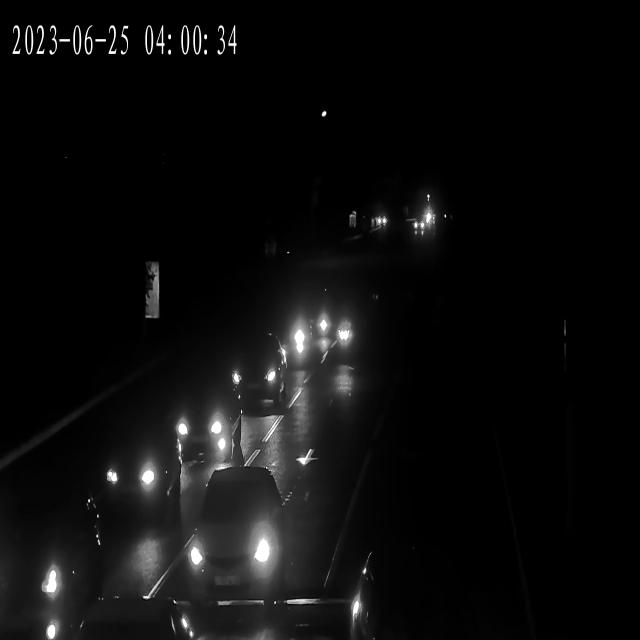Car: (178, 470, 291, 598), (0, 501, 101, 633), (90, 427, 181, 524), (151, 376, 243, 462), (64, 605, 194, 640), (223, 339, 289, 405), (290, 295, 362, 354), (254, 314, 316, 372), (372, 213, 390, 229), (409, 218, 428, 233)
